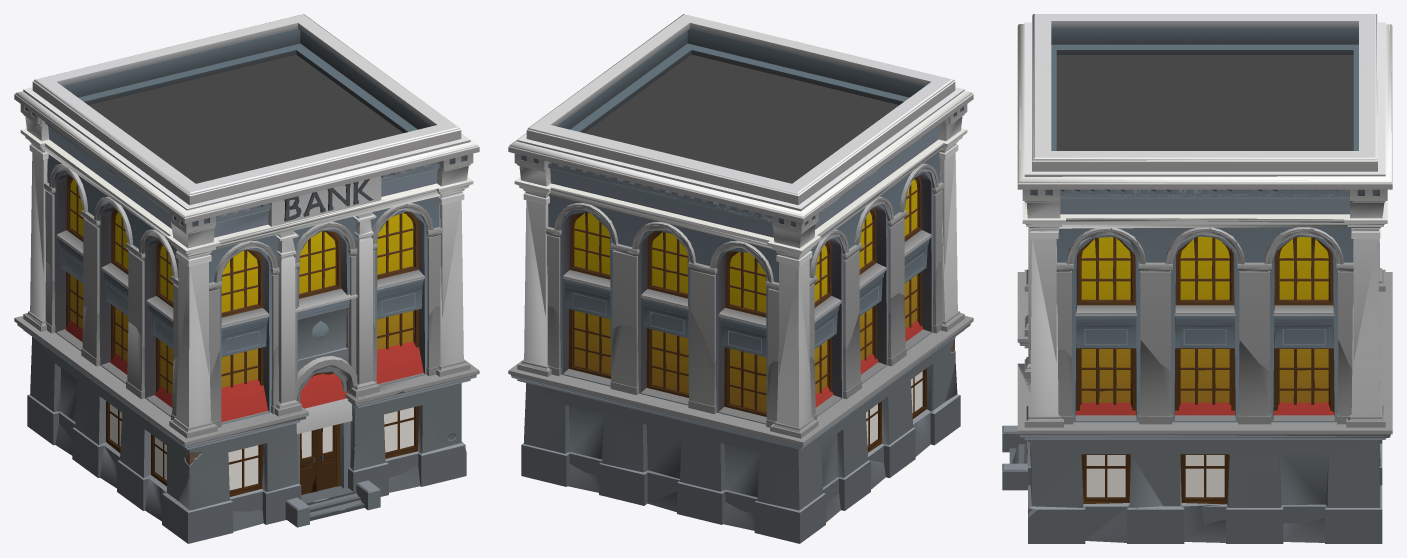
File: showcase.glb
3 views of the same model, side by side, from view 1: azimuth 30°, elevation 25°; view 2: azimuth 150°, elevation 25°; view 3: azimuth 270°, elevation 25° (orthographic). The views are drawn at different scales.
Parts seen in each view (by area): view 1: bank_near, bank_far, commercial-04_near; view 2: bank_near, bank_far, commercial-04_near; view 3: bank_near, bank_far, commercial-04_near.
Boxes of the visible parts, x1,y1,x2,y2 form: bank_near: [14, 14, 479, 543]; bank_far: [15, 14, 478, 531]; commercial-04_near: [66, 320, 423, 434]; bank_near: [508, 14, 973, 543]; bank_far: [509, 14, 972, 530]; commercial-04_near: [815, 320, 922, 407]; bank_near: [1002, 14, 1392, 543]; bank_far: [1002, 14, 1391, 542]; commercial-04_near: [1076, 402, 1330, 415].
Size of the model in its own units: 11.26 by 12.69 by 11.72.
Materials: 4 (1 with a texture image).
